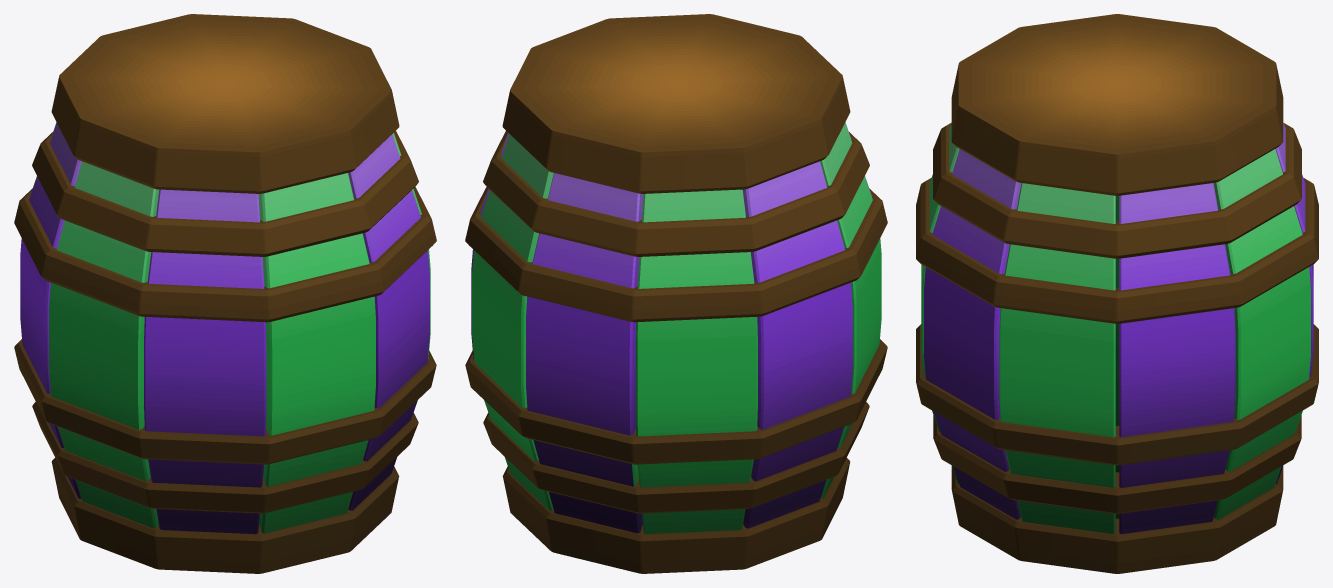
Rendered from Barrel_04.fbx.
3 views of the same model, side by side, from view 1: azimuth 30°, elevation 25°; view 2: azimuth 150°, elevation 25°; view 3: azimuth 270°, elevation 25° (orthographic).
Parts seen in each view (by area): view 1: Barrel_SecondPass1; view 2: Barrel_SecondPass1; view 3: Barrel_SecondPass1.
Boxes of the visible parts, x1,y1,x2,y2 form: Barrel_SecondPass1: (14,14,436,573); Barrel_SecondPass1: (465,14,887,573); Barrel_SecondPass1: (916,14,1318,573).
Bounding box in the file's own units: 2.35 × 2.58 × 2.24.
